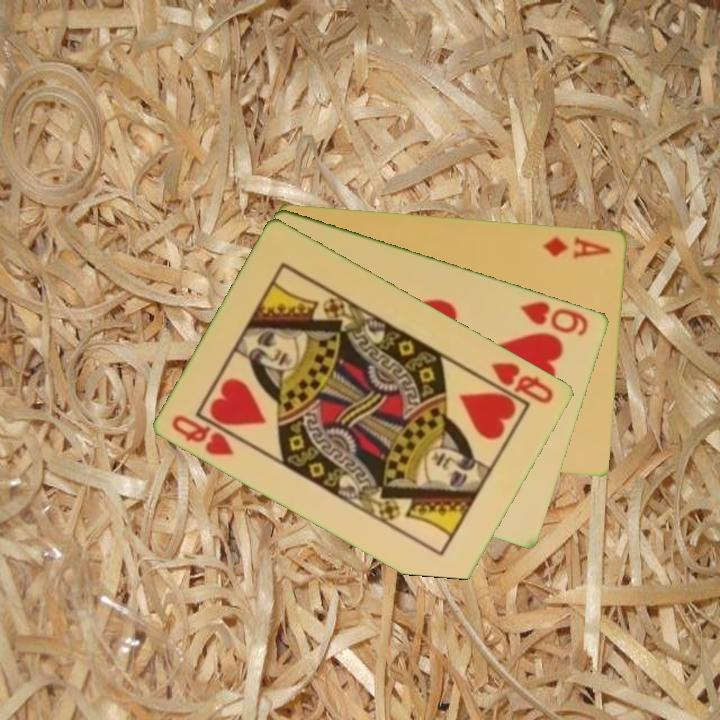6h: (517, 297, 592, 339)
Ad: (539, 232, 614, 262)
Qh: (488, 358, 557, 407), (169, 411, 238, 459)
